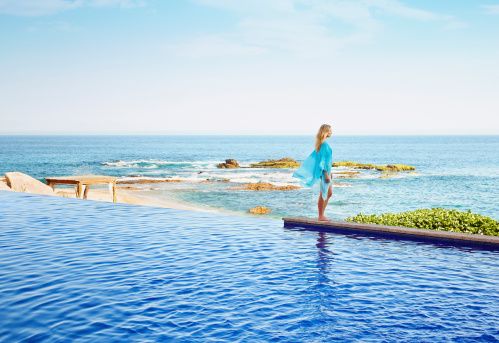em pe: (300, 125, 341, 212)
